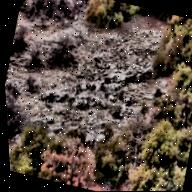boar: (150, 85, 167, 107)
